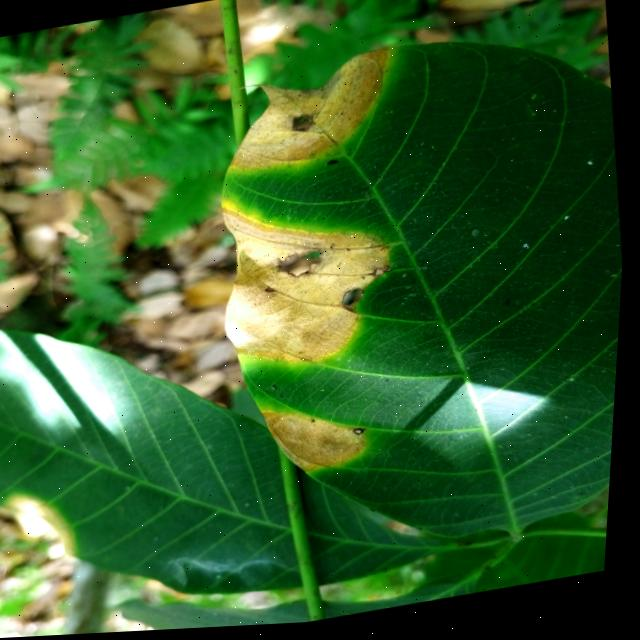Colletotrichum: (357, 430, 371, 440)
Leaf-Blight: (211, 184, 406, 380), (220, 50, 401, 178), (264, 397, 376, 482)
